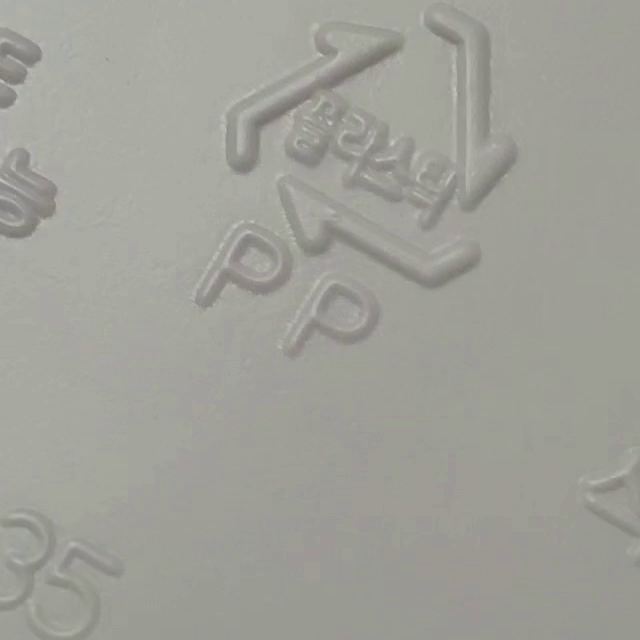Plastic: (227, 5, 517, 282)
